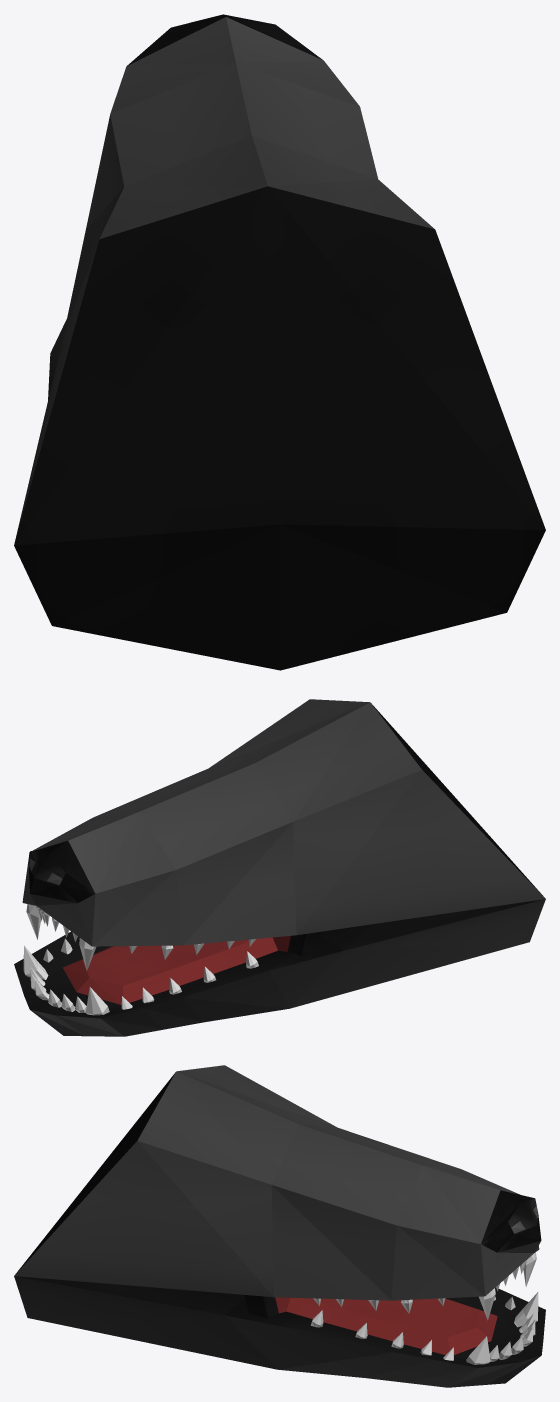
File: WEREWOLF FACE.fbx
3 views of the same model, one above another, from view 1: azimuth 30°, elevation 25°; view 2: azimuth 150°, elevation 25°; view 3: azimuth 270°, elevation 25° (orthographic). The views are drawn at different scales.
Parts seen in each view (by area): view 1: WEREWOLF_FACE; view 2: WEREWOLF_FACE; view 3: WEREWOLF_FACE.
Boxes of the visible parts, box(x1,y1,x2,y2) form: WEREWOLF_FACE: box(14, 14, 545, 670); WEREWOLF_FACE: box(14, 699, 545, 1036); WEREWOLF_FACE: box(14, 1065, 545, 1387).
Size of the model in its own units: 17.18 by 11.34 by 21.74.
